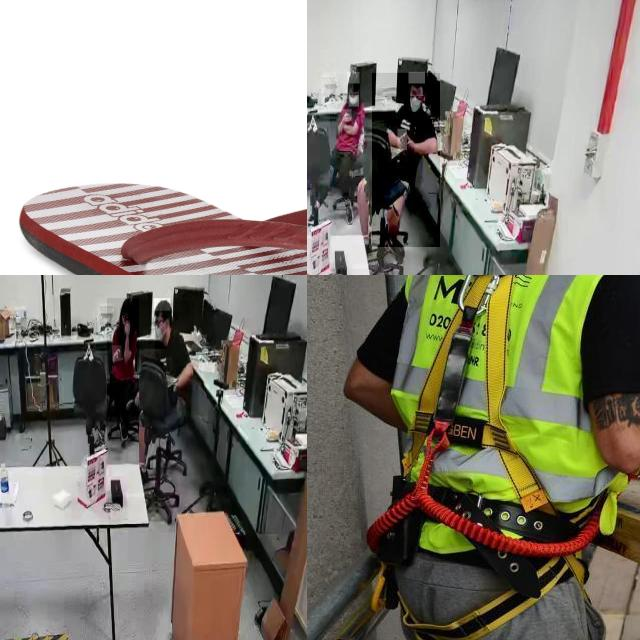Harness: (392, 275, 556, 562)
Sandals: (16, 178, 307, 275)
face_mask: (155, 314, 167, 349), (407, 96, 424, 115), (349, 95, 359, 107)
face_nomask: (121, 314, 131, 326)
hand_noglove: (405, 130, 415, 156), (398, 129, 408, 151), (112, 346, 122, 362), (342, 109, 352, 122), (124, 320, 130, 336)
head_nohelmet: (153, 298, 171, 312), (408, 72, 426, 84), (120, 297, 134, 310), (348, 72, 360, 84)
person: (372, 73, 440, 248), (136, 301, 194, 431), (107, 298, 139, 442), (330, 74, 361, 220)
